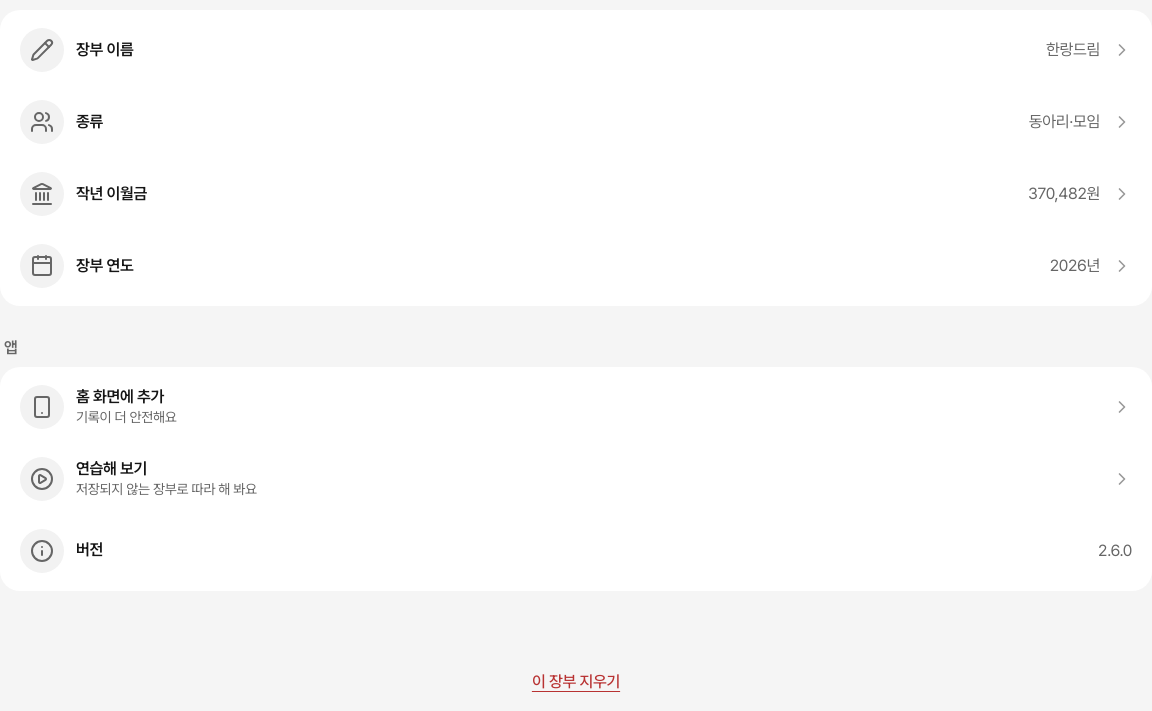
Test: SPEC-001·002 설정 화면 › SPEC-002 홈 화면에 추가 줄 › SPEC-009 A 그림 안내 (설치 제안이 없을 때) › AC-3 삼성 인터넷이면 방법 안내 창에 아래 메뉴 1 / 4 그림과 글 줄이 보이고 [이전] 은 누를 수 없다
(page scrolled)
What coordinates should you click on to do the following:
click the button "홈 화면에 추가 기록이 더 안전해요"
I would click on:
 (42, 407)
Its box is [0, 371, 1151, 443].
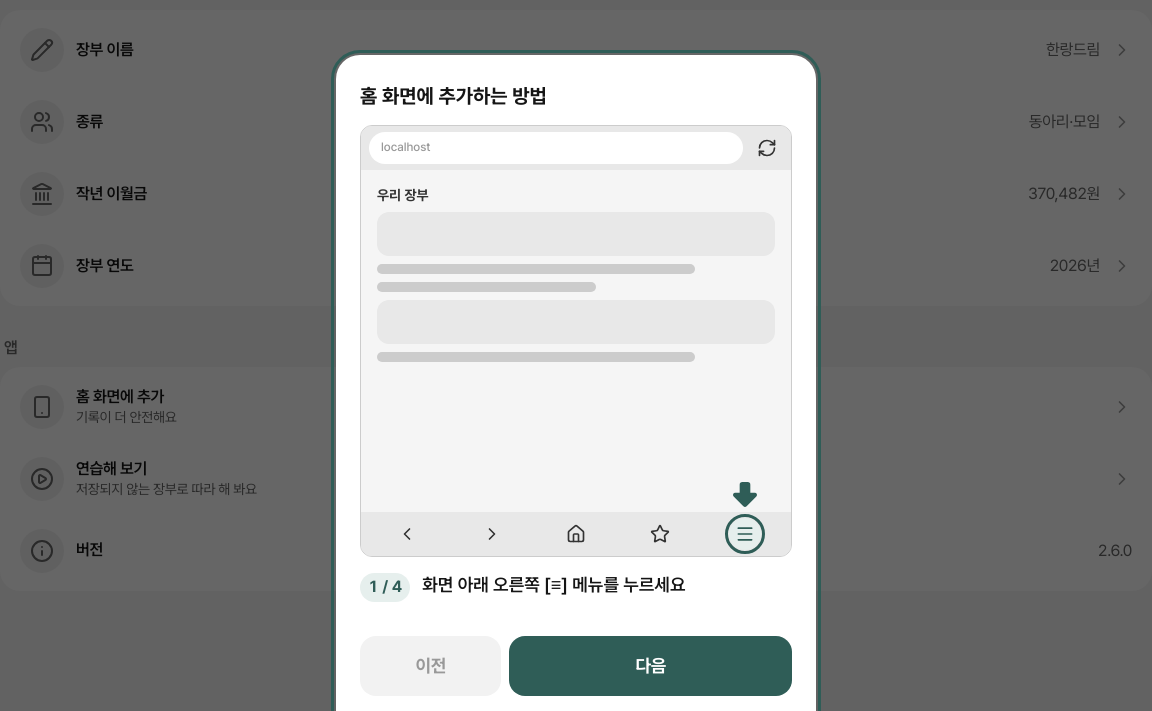
Expected: the element with test id "browser-picture" is shown, [360, 125, 792, 557]
Expected: the button "이전" is disabled, [360, 636, 501, 696]
